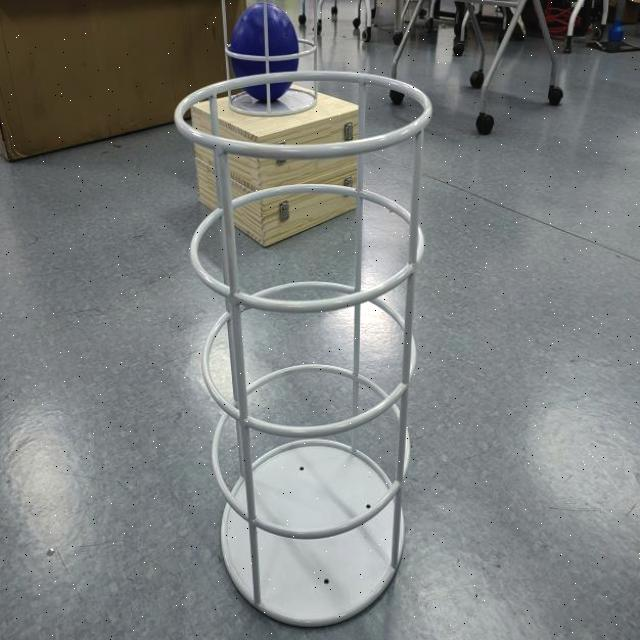P: (230, 2, 294, 100)
S: (168, 67, 438, 635)
